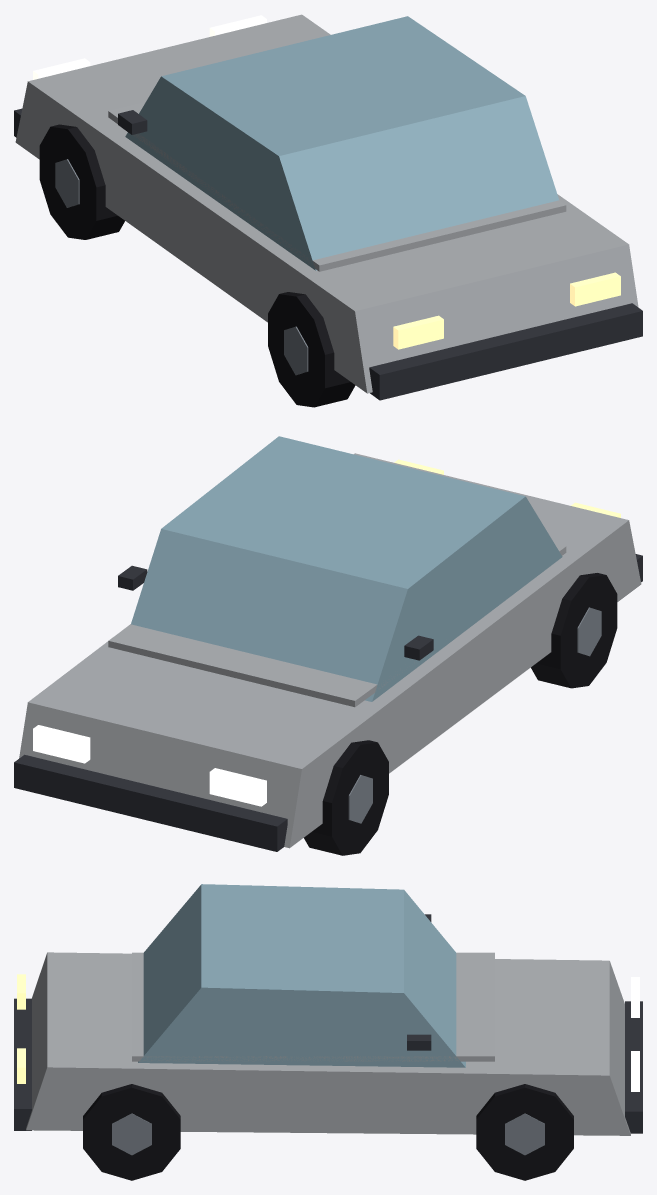
File: veh_car_sedan.glb
The picture shows the model from 3 angles, top to bottom: view 1: azimuth 30°, elevation 25°; view 2: azimuth 150°, elevation 25°; view 3: azimuth 270°, elevation 25°; orthographic projection. The views are drawn at different scales.
Visible parts, largest first — view 1: veh_car_sedan_body, wheel_rl_mesh, wheel_fl_mesh, lights; view 2: veh_car_sedan_body, wheel_rl_mesh, wheel_fl_mesh, lights; view 3: veh_car_sedan_body, wheel_fr_mesh, wheel_rr_mesh, lights.
Boxes of the visible parts, box(x1,y1,x2,y2) form: veh_car_sedan_body: box(14, 14, 642, 400); wheel_rl_mesh: box(268, 292, 355, 407); wheel_fl_mesh: box(39, 124, 124, 239); lights: box(33, 15, 620, 349); veh_car_sedan_body: box(14, 436, 642, 851); wheel_rl_mesh: box(531, 573, 617, 688); wheel_fl_mesh: box(304, 740, 388, 855); lights: box(33, 459, 620, 806); veh_car_sedan_body: box(14, 884, 642, 1135); wheel_fr_mesh: box(476, 1084, 573, 1180); wheel_rr_mesh: box(83, 1084, 180, 1180); lights: box(17, 974, 639, 1091).
Size of the model in its own units: 1.98 by 1.34 by 4.16.
